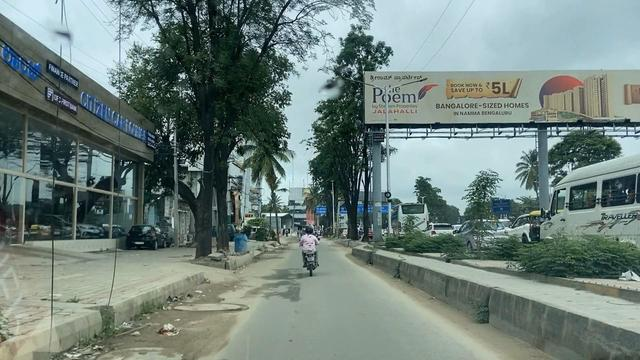RoadDamages: (150, 291, 262, 322), (108, 331, 173, 360), (266, 268, 301, 306)
